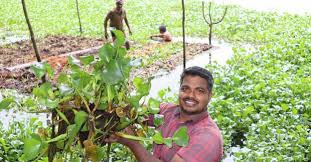water_hyacinth: (4, 28, 187, 158)
